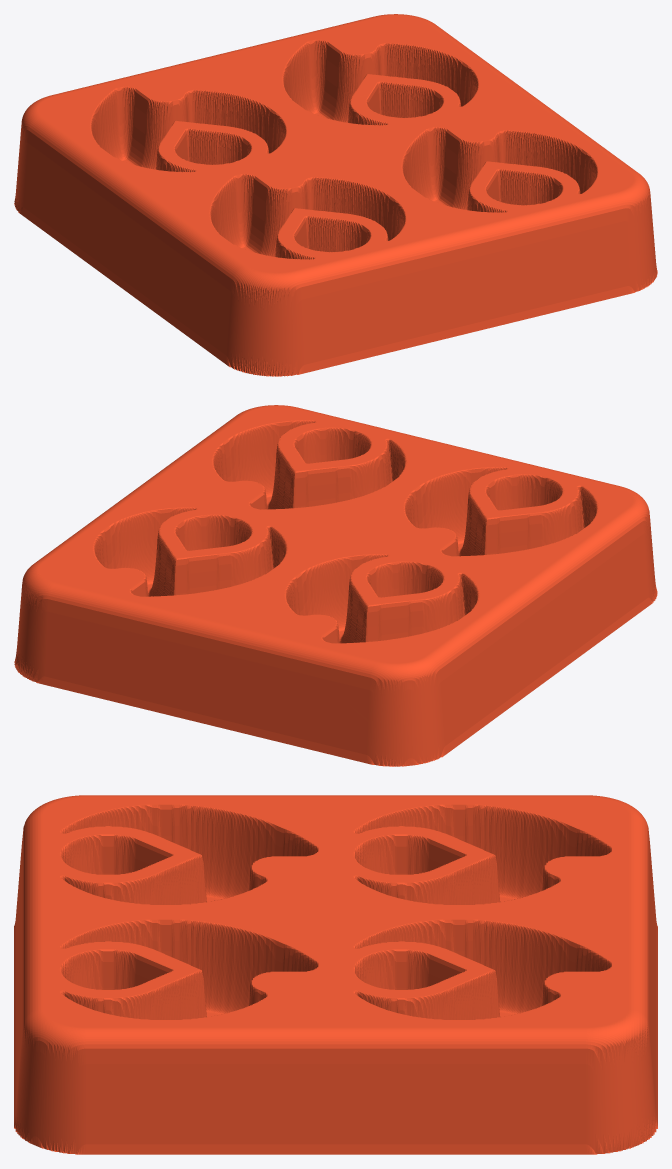
File: mold.glb
3 renders of one model, top to bottom at view 1: azimuth 30°, elevation 25°; view 2: azimuth 150°, elevation 25°; view 3: azimuth 270°, elevation 25°, orthographic. The views are drawn at different scales.
Parts seen in each view (by area): view 1: geometry_0; view 2: geometry_0; view 3: geometry_0.
Boxes of the visible parts, <box> form: geometry_0: <box>14,14,657,376</box>; geometry_0: <box>14,405,657,766</box>; geometry_0: <box>14,795,657,1154</box>.
Bounding box in the file's own units: 0.0756 × 0.0159 × 0.0808.
